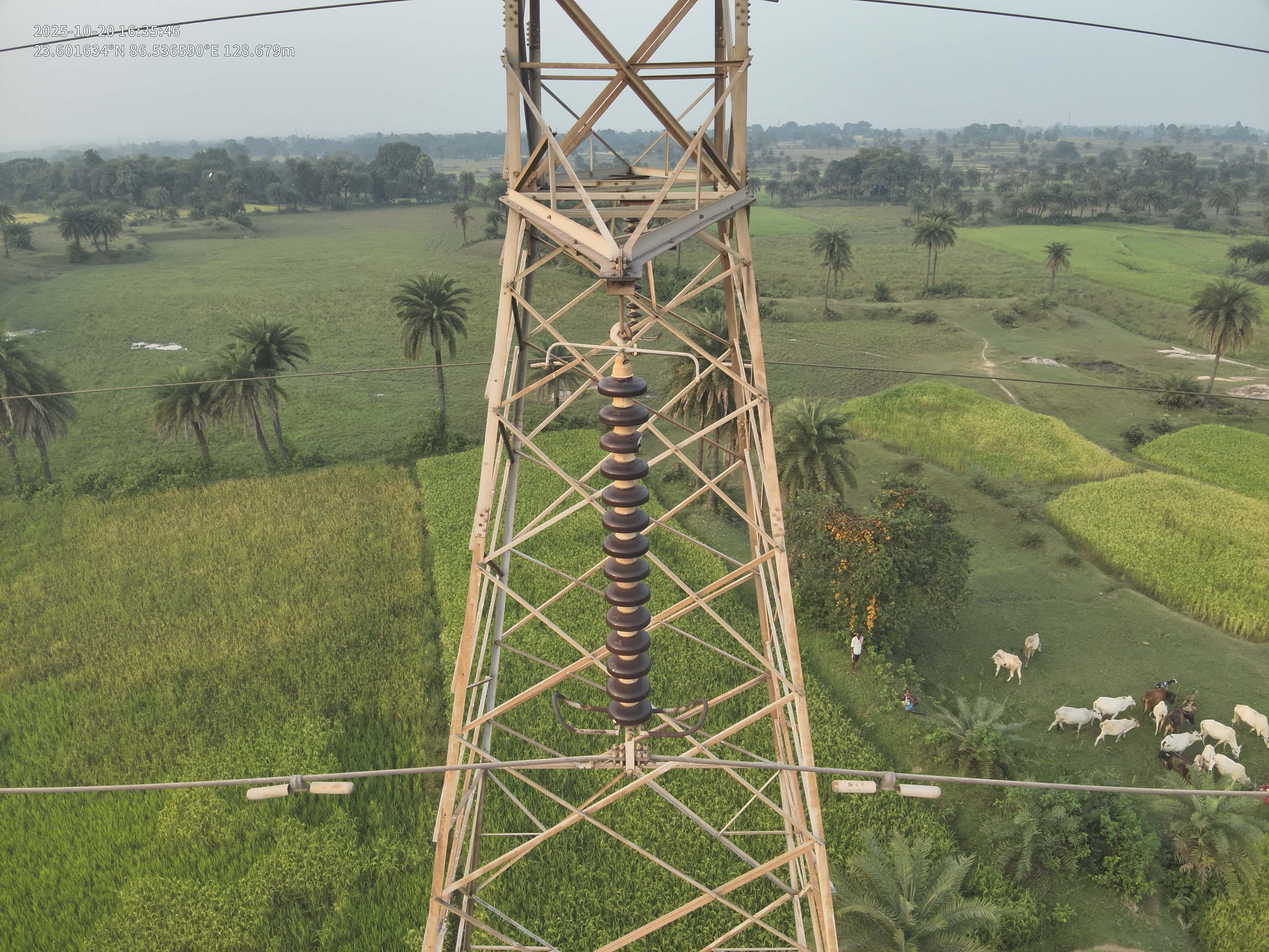broken_insulator: (596, 426, 652, 459)
